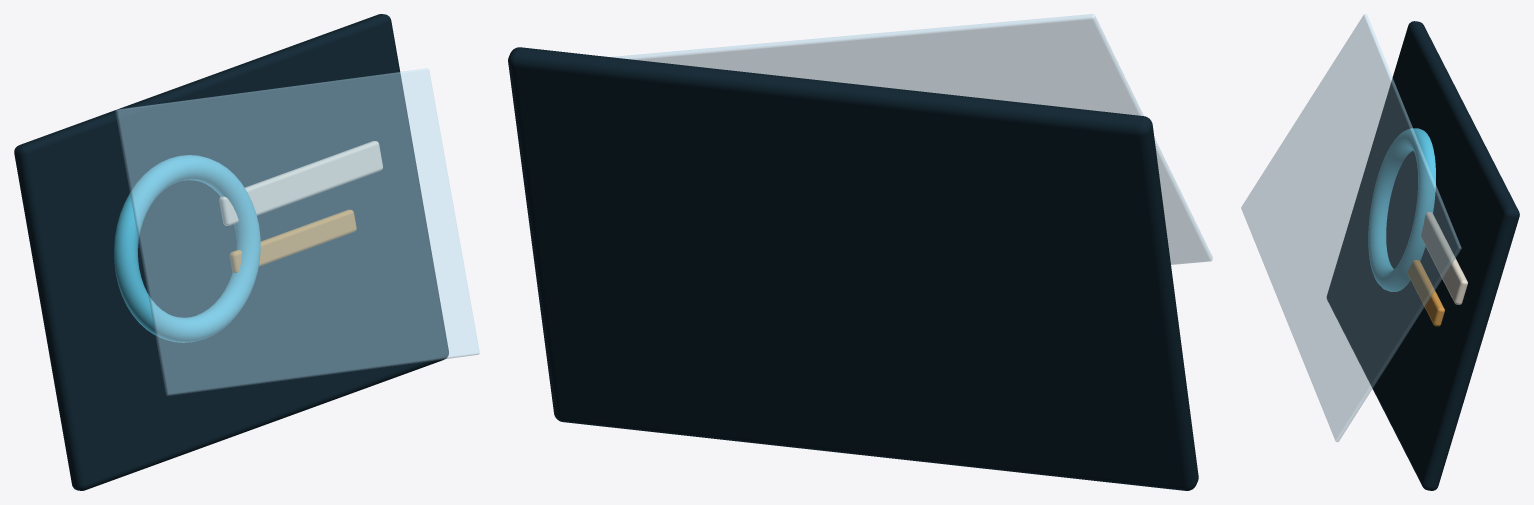
Rendered from heat-transfer.glb.
The picture shows the model from 3 angles, left to right: view 1: azimuth 30°, elevation 25°; view 2: azimuth 150°, elevation 25°; view 3: azimuth 270°, elevation 25°; orthographic projection. The views are drawn at different scales.
Parts seen in each view (by area): view 1: heat-transfer; view 2: heat-transfer; view 3: heat-transfer.
Part boxes in pixels (box(x1,y1,x2,y2)): heat-transfer: box(14, 14, 479, 490); heat-transfer: box(508, 14, 1212, 490); heat-transfer: box(1241, 14, 1519, 490).
Bounding box in the file's own units: 2.61 × 2.07 × 1.63.
